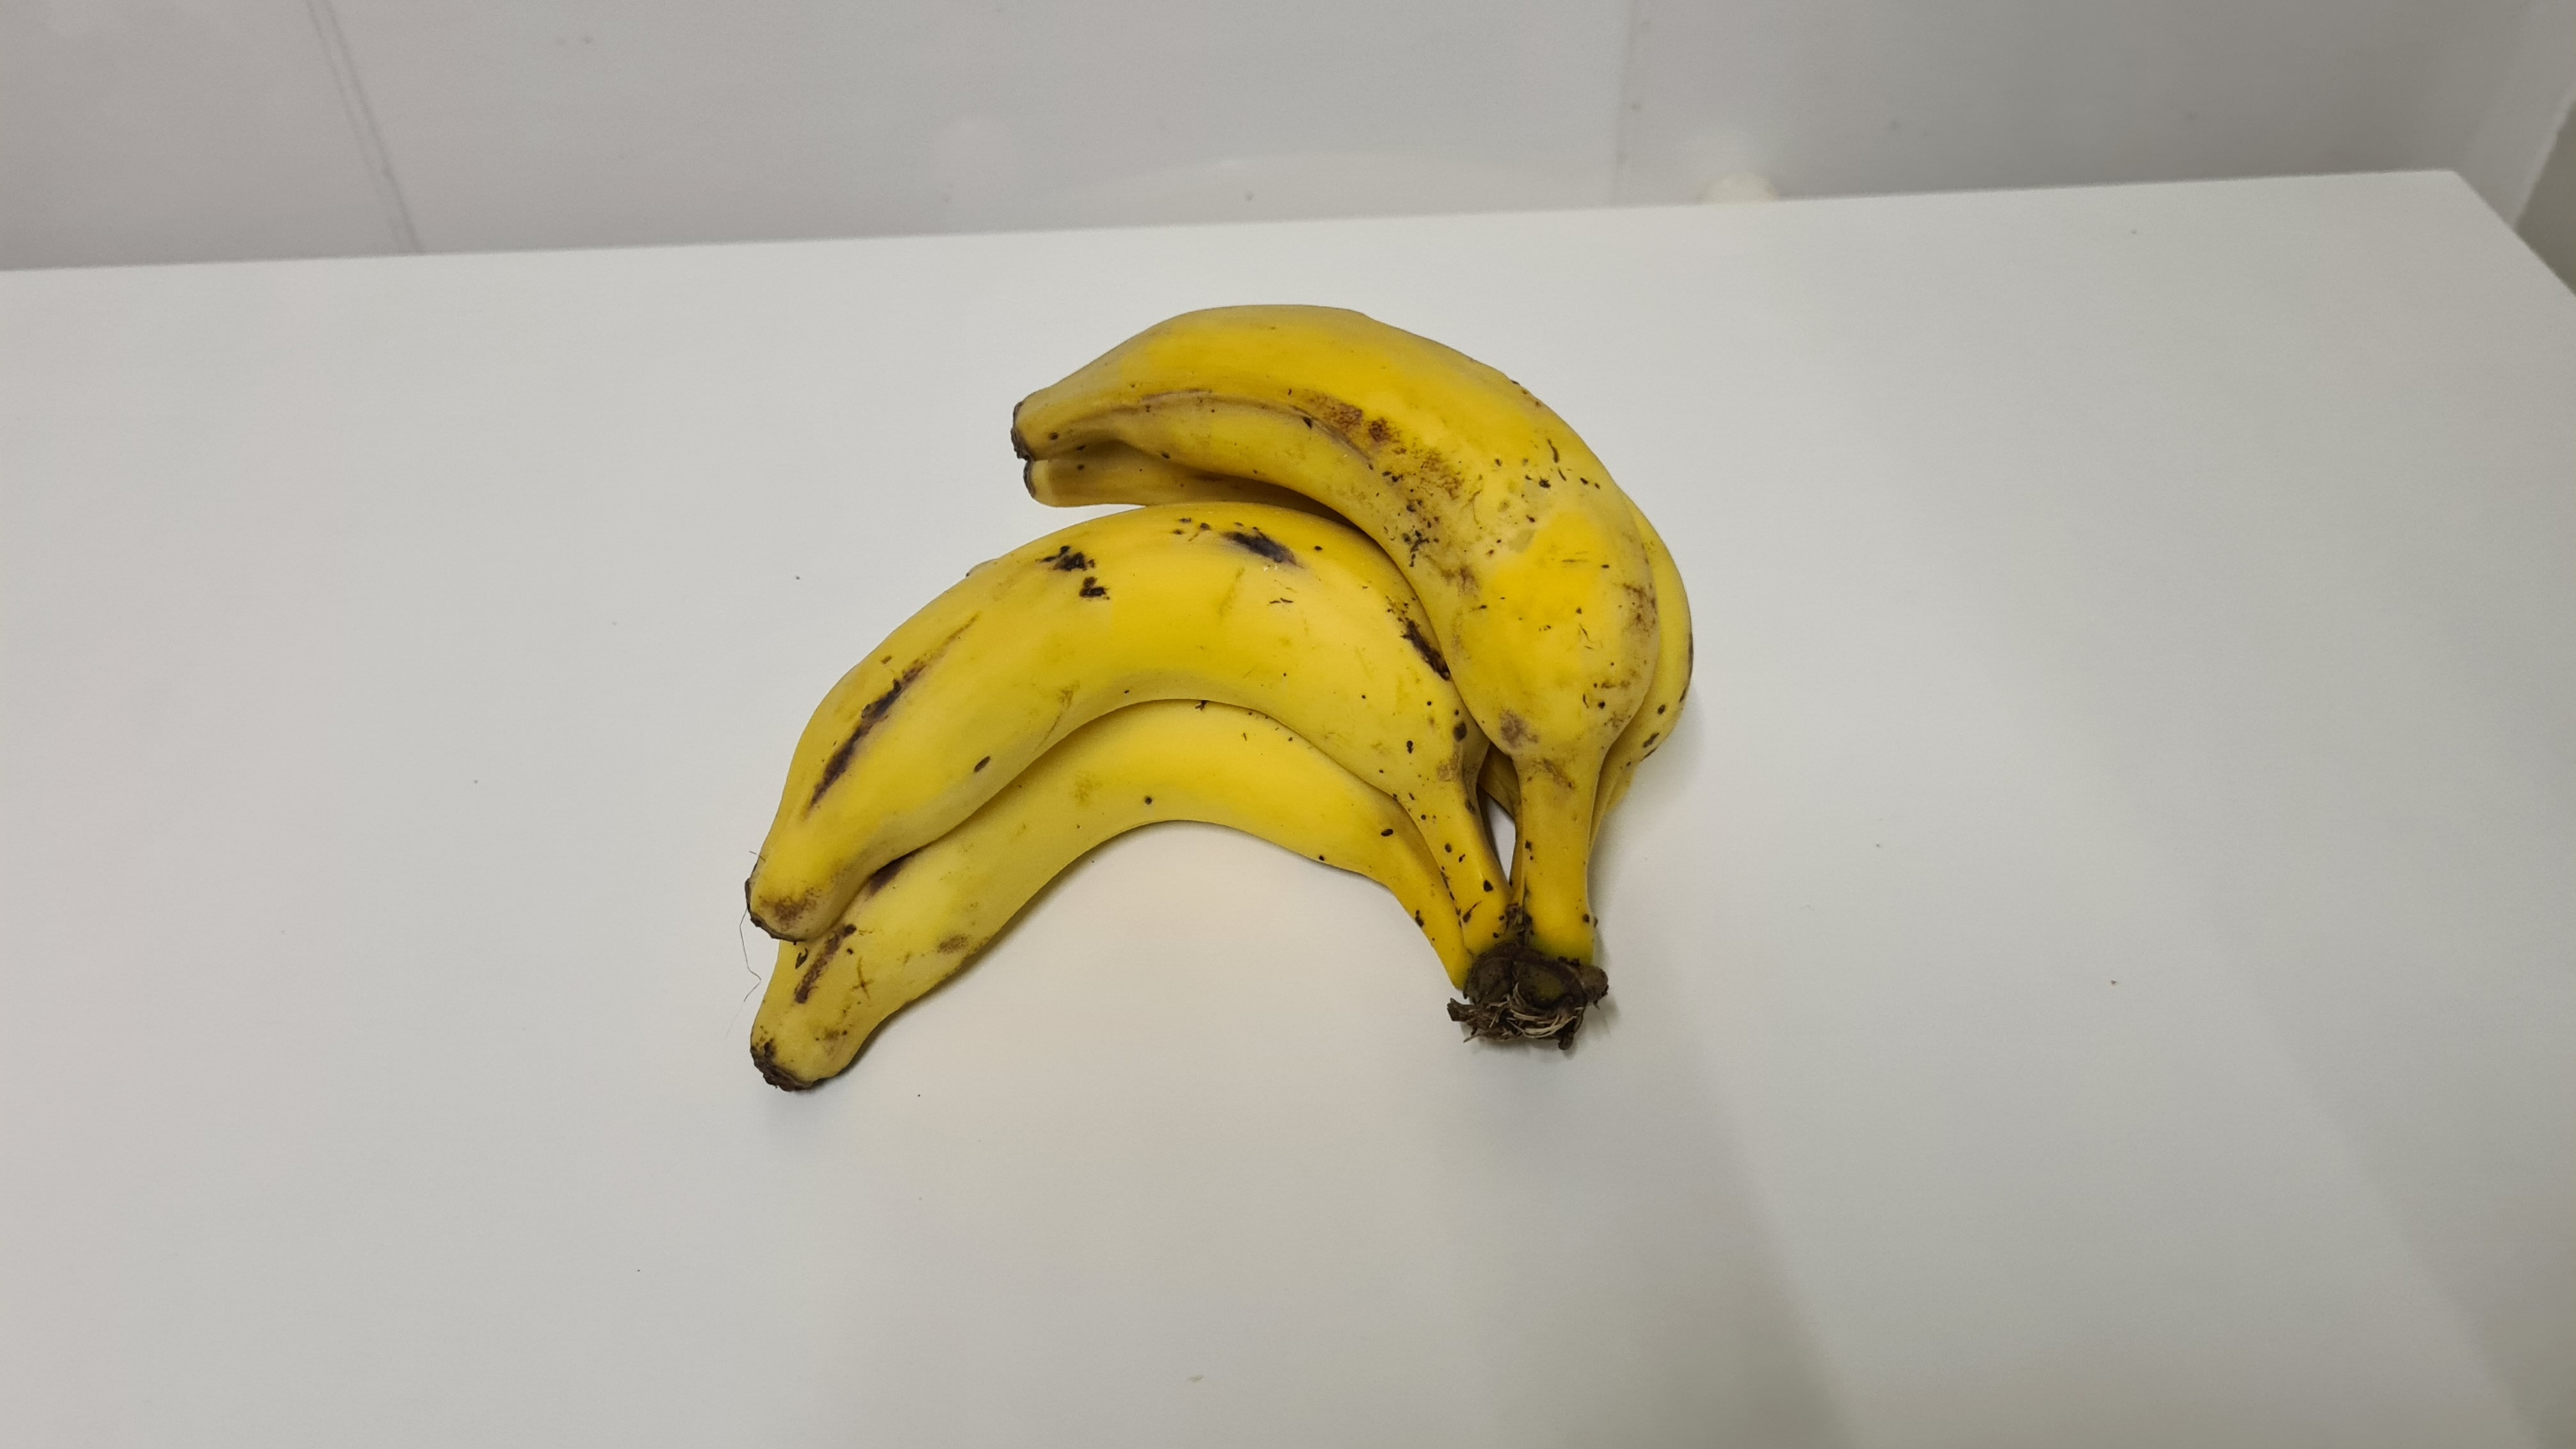Banana: (735, 287, 1753, 1114)
